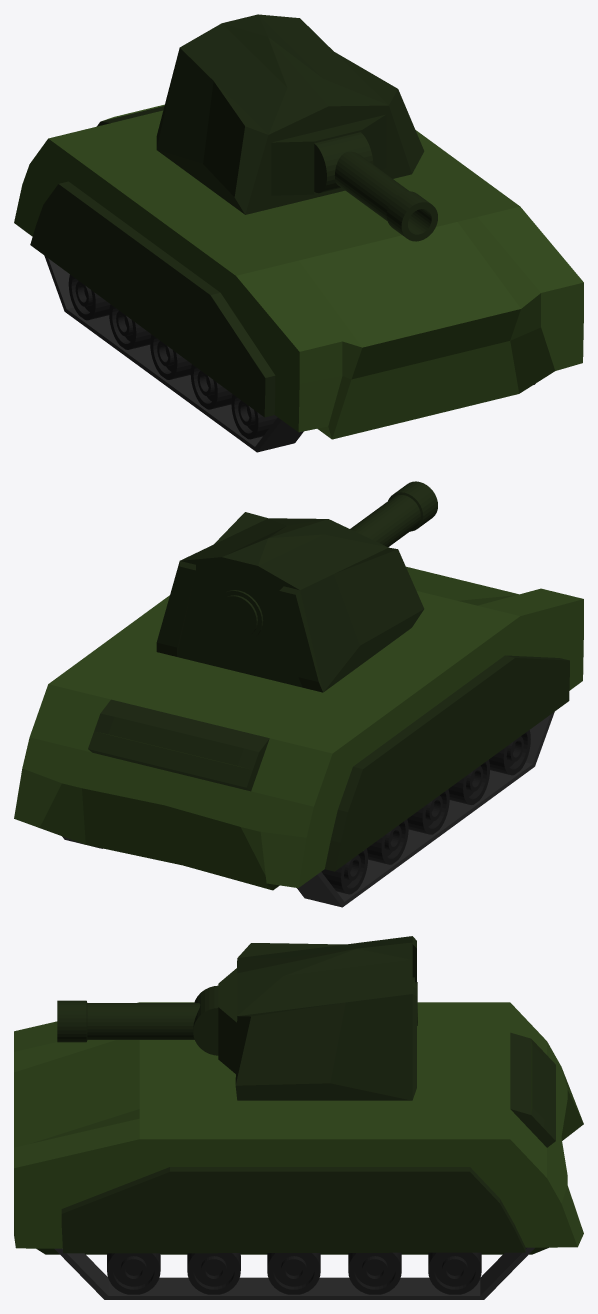
File: tier1.obj
3 views of the same model, one above another, from view 1: azimuth 30°, elevation 25°; view 2: azimuth 150°, elevation 25°; view 3: azimuth 270°, elevation 25° (orthographic).
Visible parts, largest first — view 1: Body10_Cube.029, Turret10_Cube, Main_Gun10_Cube.051, Road_Wheels10_Cube.030, Tracks10_Cube.028; view 2: Body10_Cube.029, Turret10_Cube, Road_Wheels10_Cube.030, Tracks10_Cube.028, Main_Gun10_Cube.051; view 3: Body10_Cube.029, Turret10_Cube, Road_Wheels10_Cube.030, Tracks10_Cube.028, Main_Gun10_Cube.051.
Part boxes in pixels (bbox=[...]): Body10_Cube.029: bbox=[14, 104, 583, 439]; Turret10_Cube: bbox=[156, 14, 424, 214]; Main_Gun10_Cube.051: bbox=[314, 132, 437, 241]; Road_Wheels10_Cube.030: bbox=[68, 274, 277, 439]; Tracks10_Cube.028: bbox=[44, 255, 535, 452]; Body10_Cube.029: bbox=[14, 566, 583, 890]; Turret10_Cube: bbox=[156, 512, 424, 692]; Road_Wheels10_Cube.030: bbox=[321, 730, 530, 894]; Tracks10_Cube.028: bbox=[62, 712, 554, 907]; Main_Gun10_Cube.051: bbox=[350, 481, 437, 547]; Body10_Cube.029: bbox=[14, 1002, 583, 1254]; Turret10_Cube: bbox=[218, 936, 417, 1100]; Road_Wheels10_Cube.030: bbox=[107, 1252, 481, 1294]; Tracks10_Cube.028: bbox=[54, 1247, 534, 1299]; Main_Gun10_Cube.051: bbox=[57, 985, 218, 1055].
Bounding box in the file's own units: 3.86 × 3.49 × 6.33.
